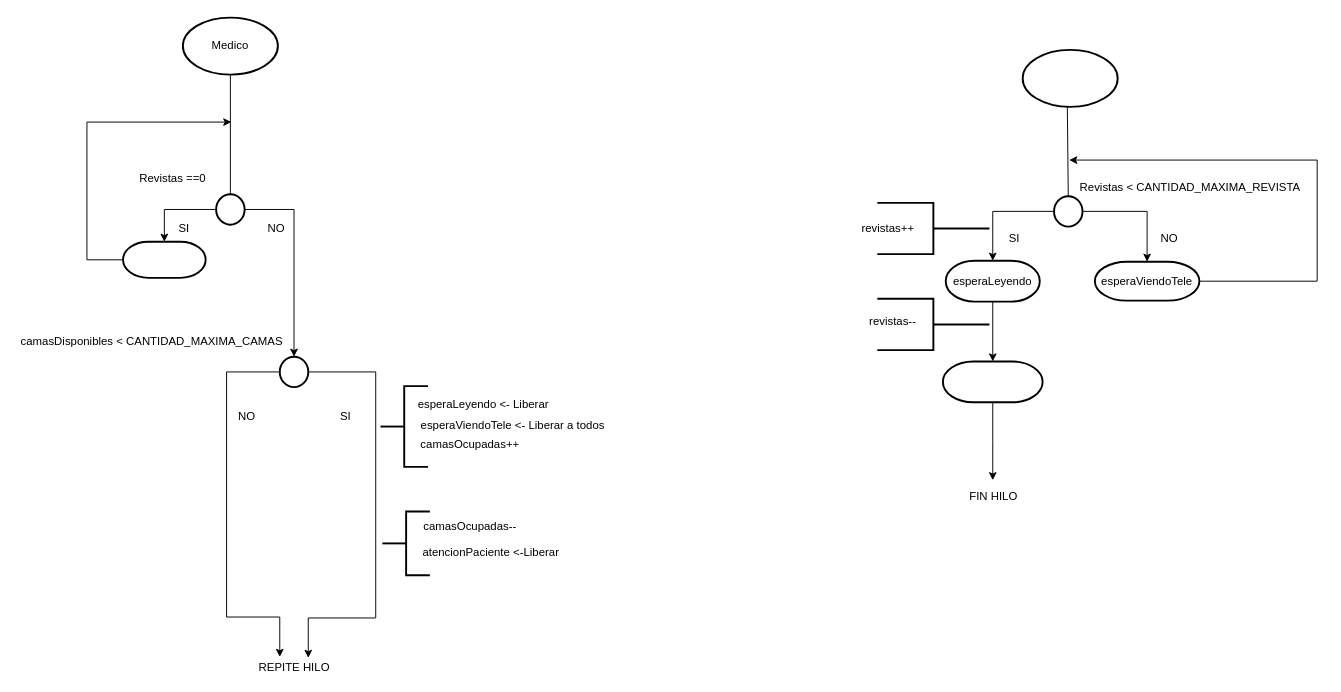
The diagram is 1341 pixels wide and 692 high, and some of its shapes have lost their labels. The centre of each missing label's shape, as x and y in pixels:
"atencionPaciente" belongs at point (992, 381).
"hiloDuerme" belongs at point (164, 259).
"Persona" belongs at point (1069, 77).
